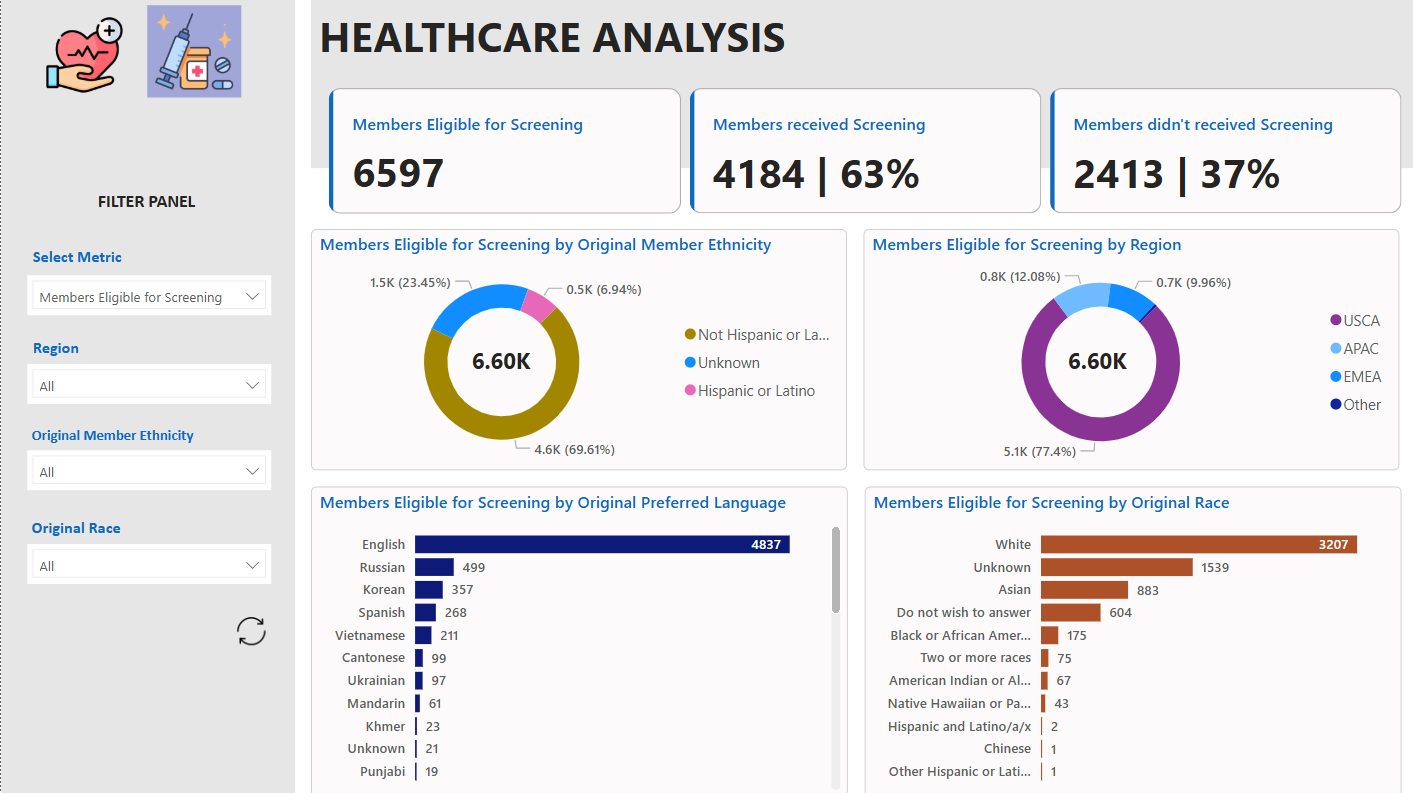

What the dashboard file says about the page in this screenshot:
{"tool":"powerbi","page":{"name":"HEALTHCARE ANALYSIS","canvas":[1280,720],"ordinal":0},"visuals":[{"type":"shape","box":[279.5,0,1000.7,152.5],"z":0},{"type":"cardVisual","fields":{"Data":["Data for healthcare analyst 2 a.Members Eligible for Screening","Data for healthcare analyst 2 a.Members received Screening","Data for healthcare analyst 2 a.Members didn't received Screening"]},"box":[290.3,75.5,979.3,123.3],"z":1000},{"type":"shape","box":[0,0,265.2,720.2],"z":2000},{"type":"textbox","box":[281.8,3.2,490.2,60.6],"z":3000},{"type":"donutChart","fields":{"Y":["Data for healthcare analyst 2 a.Members Eligible for Screening"],"Category":["Data for healthcare analyst 2 a.ORIG_MEM_ETHNICITY"]},"box":[279.5,206.9,483,217.8],"z":5000},{"type":"slicer","fields":{"Values":["Select Metric.Select Metric"]},"box":[23.4,248.8,220.1,36.2],"z":6000},{"type":"card","fields":{"Values":["Data for healthcare analyst 2 a.Members Eligible for Screening"]},"box":[405.4,309.8,90.8,36.3],"z":7000},{"type":"donutChart","fields":{"Y":["Data for healthcare analyst 2 a.Members Eligible for Screening"],"Category":["Data for healthcare analyst 2 a.Region"]},"box":[778.1,206.9,482.8,217.8],"z":8000},{"type":"card","fields":{"Values":["Data for healthcare analyst 2 a.Members Eligible for Screening"]},"box":[943.8,309.8,90.8,36.3],"z":9000},{"type":"clusteredBarChart","fields":{"Y":["Data for healthcare analyst 2 a.Members Eligible for Screening"],"Category":["Data for healthcare analyst 2 a.Original Preferred Language"]},"box":[279.5,439.3,484,280],"z":10000},{"type":"clusteredBarChart","fields":{"Y":["Data for healthcare analyst 2 a.Members Eligible for Screening"],"Category":["Data for healthcare analyst 2 a.Original Race"]},"box":[778.3,439.1,483.8,279.6],"z":11000},{"type":"image","box":[36.3,10.9,78.7,78.7],"z":12000},{"type":"image","box":[131.9,6.1,84.7,83.5],"z":13000},{"type":"textbox","box":[23.4,218,117,30.8],"z":14000},{"type":"slicer","fields":{"Values":["Data for healthcare analyst 2 a.Region"]},"box":[23.4,328.6,220.1,36.2],"z":15000},{"type":"textbox","box":[23.4,299.9,117,31.9],"z":16000},{"type":"textbox","box":[72.3,168,118,30.8],"z":17000},{"type":"slicer","fields":{"Values":["Data for healthcare analyst 2 a.Original Member Ethnicity"]},"box":[23.4,407.2,220.1,36.2],"z":18000},{"type":"slicer","fields":{"Values":["Data for healthcare analyst 2 a.Original Race"]},"box":[23.4,491.2,220.1,36.2],"z":19000},{"type":"textbox","box":[23,378.7,220.2,31.5],"z":20000},{"type":"textbox","box":[23,462.2,116.2,31.5],"z":21000},{"type":"image","box":[206.9,549.5,37.3,40.7],"z":22000}]}

Visuals, with their boxes in screenshot pixels (x1, y1, x2, y2), scaled from the page's 1280x720 canvas onto the 1413x793 screenshot:
shape: select_region(309, 0, 1412, 168)
cardVisual - Data for healthcare analyst 2 a.Members Eligible for Screening x Data for healthcare analyst 2 a.Members received Screening: select_region(320, 83, 1402, 219)
shape: select_region(0, 0, 293, 792)
textbox: select_region(311, 4, 852, 70)
donutChart - Data for healthcare analyst 2 a.Members Eligible for Screening x Data for healthcare analyst 2 a.ORIG_MEM_ETHNICITY: select_region(309, 228, 842, 468)
slicer - Select Metric.Select Metric: select_region(26, 274, 269, 314)
card - Data for healthcare analyst 2 a.Members Eligible for Screening: select_region(448, 341, 548, 381)
donutChart - Data for healthcare analyst 2 a.Members Eligible for Screening x Data for healthcare analyst 2 a.Region: select_region(859, 228, 1392, 468)
card - Data for healthcare analyst 2 a.Members Eligible for Screening: select_region(1042, 341, 1142, 381)
clusteredBarChart - Data for healthcare analyst 2 a.Members Eligible for Screening x Data for healthcare analyst 2 a.Original Preferred Language: select_region(309, 484, 843, 792)
clusteredBarChart - Data for healthcare analyst 2 a.Members Eligible for Screening x Data for healthcare analyst 2 a.Original Race: select_region(859, 484, 1393, 792)
image: select_region(40, 12, 127, 99)
image: select_region(146, 7, 239, 99)
textbox: select_region(26, 240, 155, 274)
slicer - Data for healthcare analyst 2 a.Region: select_region(26, 362, 269, 402)
textbox: select_region(26, 330, 155, 365)
textbox: select_region(80, 185, 210, 219)
slicer - Data for healthcare analyst 2 a.Original Member Ethnicity: select_region(26, 448, 269, 488)
slicer - Data for healthcare analyst 2 a.Original Race: select_region(26, 541, 269, 581)
textbox: select_region(25, 417, 268, 452)
textbox: select_region(25, 509, 154, 544)
image: select_region(228, 605, 270, 650)
